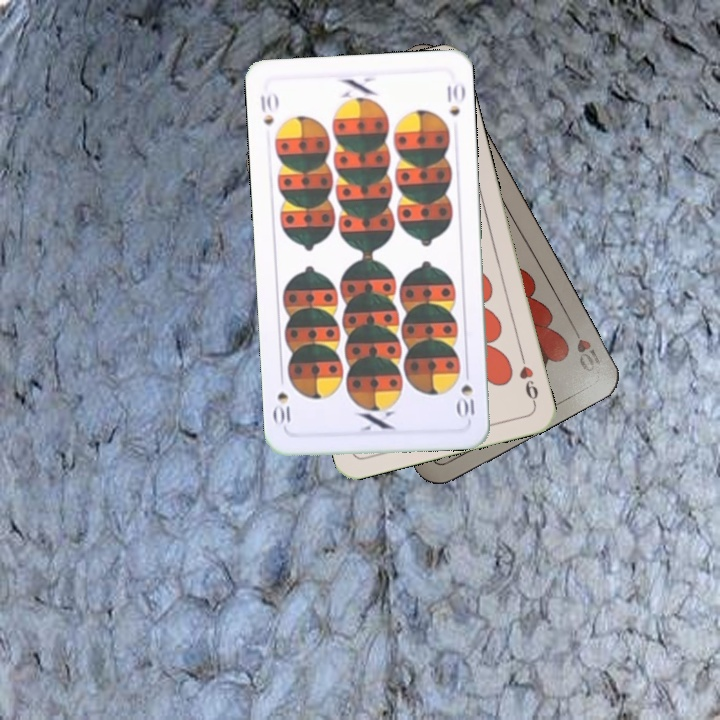H10: (566, 318, 605, 376)
H9: (515, 349, 541, 407)
S10: (455, 364, 477, 421), (256, 89, 280, 127)
